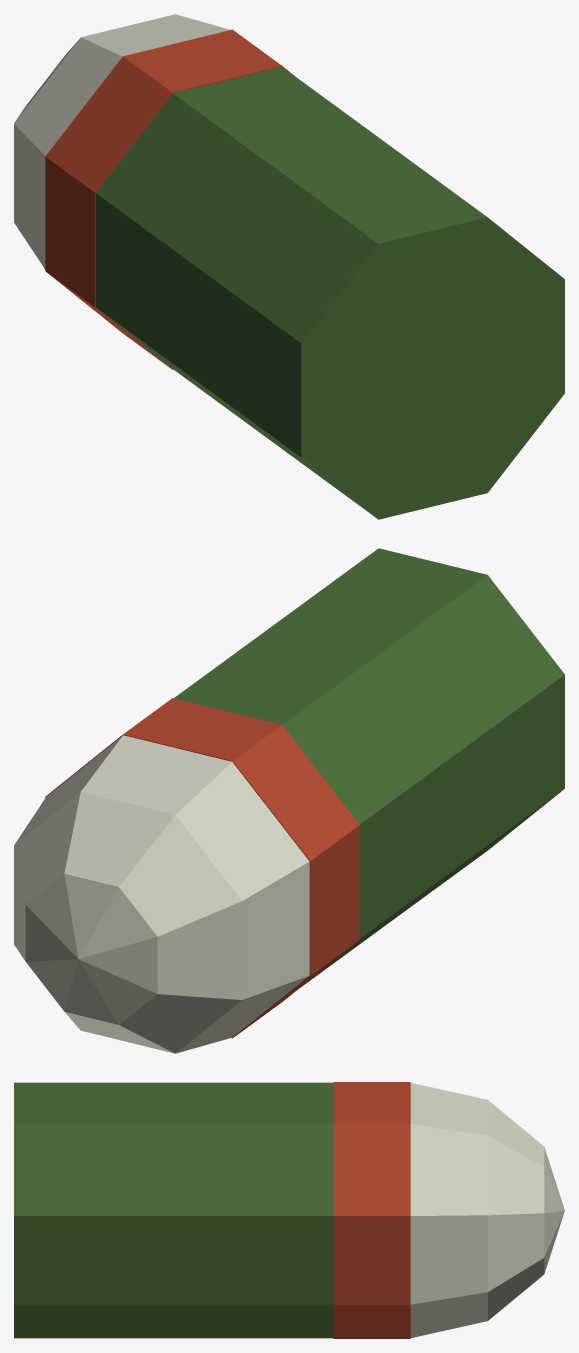
The model's file is ce_ammo_grenade_air_a.obj.
The picture shows the model from 3 angles, top to bottom: view 1: azimuth 30°, elevation 25°; view 2: azimuth 150°, elevation 25°; view 3: azimuth 270°, elevation 25°; orthographic projection. The views are drawn at different scales.
Visible parts, largest first — view 1: ce_ammo_grenade_air_a_0, ce_ammo_grenade_air_a_1, ce_ammo_grenade_air_a_2; view 2: ce_ammo_grenade_air_a_0, ce_ammo_grenade_air_a_3, ce_ammo_grenade_air_a_2, ce_ammo_grenade_air_a_1, ce_ammo_grenade_air_a_4; view 3: ce_ammo_grenade_air_a_0, ce_ammo_grenade_air_a_1, ce_ammo_grenade_air_a_2, ce_ammo_grenade_air_a_3, ce_ammo_grenade_air_a_4.
Part boxes in pixels (x1,y1,x2,y2): ce_ammo_grenade_air_a_0: [95, 66, 564, 519]; ce_ammo_grenade_air_a_1: [45, 29, 294, 369]; ce_ammo_grenade_air_a_2: [14, 14, 230, 269]; ce_ammo_grenade_air_a_0: [174, 548, 564, 987]; ce_ammo_grenade_air_a_3: [14, 792, 242, 1053]; ce_ammo_grenade_air_a_2: [14, 735, 309, 1053]; ce_ammo_grenade_air_a_1: [45, 698, 359, 1038]; ce_ammo_grenade_air_a_4: [25, 873, 157, 1024]; ce_ammo_grenade_air_a_0: [14, 1082, 333, 1338]; ce_ammo_grenade_air_a_1: [333, 1082, 410, 1338]; ce_ammo_grenade_air_a_2: [410, 1083, 487, 1337]; ce_ammo_grenade_air_a_3: [488, 1100, 544, 1320]; ce_ammo_grenade_air_a_4: [544, 1147, 564, 1273].
Size of the model in its own units: 0.2414 by 0.2414 by 0.56.
